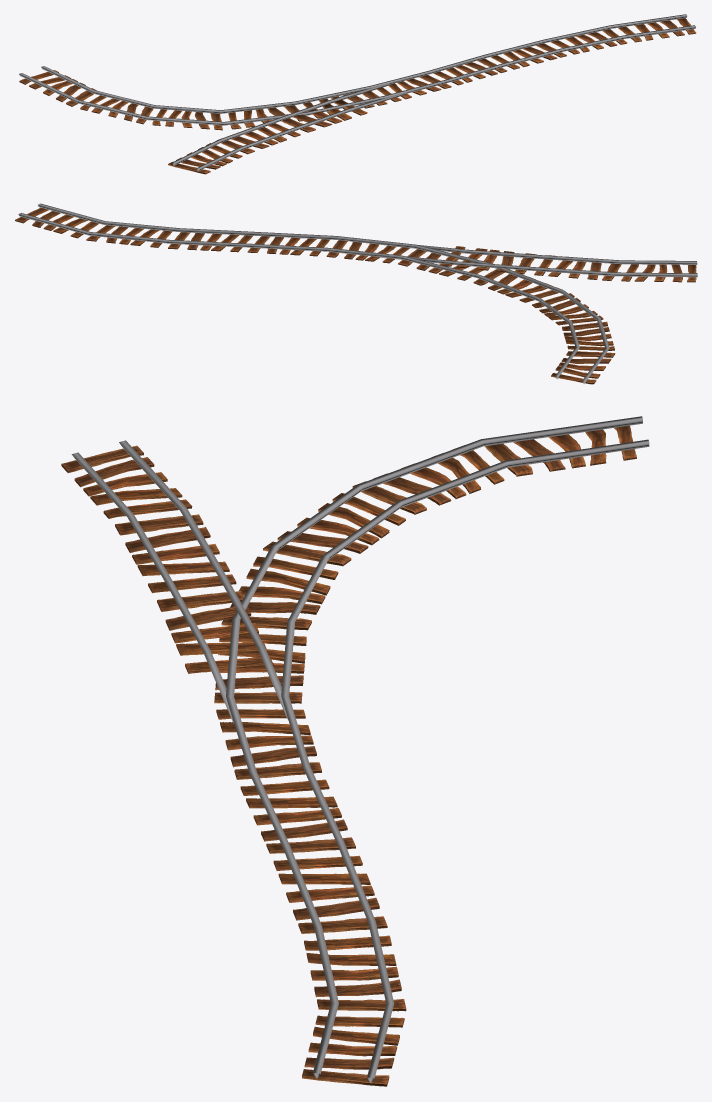
The model's file is SWORDLIGHT20_MAIN1RAILS1E.fbx.
3 renders of one model, top to bottom at view 1: azimuth 30°, elevation 25°; view 2: azimuth 150°, elevation 25°; view 3: azimuth 270°, elevation 25°, orthographic. The views are drawn at different scales.
Visible parts, largest first — view 1: SWORDLIGHT20_MAIN1RAILS1E; view 2: SWORDLIGHT20_MAIN1RAILS1E; view 3: SWORDLIGHT20_MAIN1RAILS1E.
Boxes of the visible parts, <box> form: SWORDLIGHT20_MAIN1RAILS1E: <box>19,14,696,174</box>; SWORDLIGHT20_MAIN1RAILS1E: <box>15,203,697,384</box>; SWORDLIGHT20_MAIN1RAILS1E: <box>61,416,649,1086</box>.
Bounding box in the file's own units: 261274 × 17380 × 110133.
2 materials, 2 textured.
